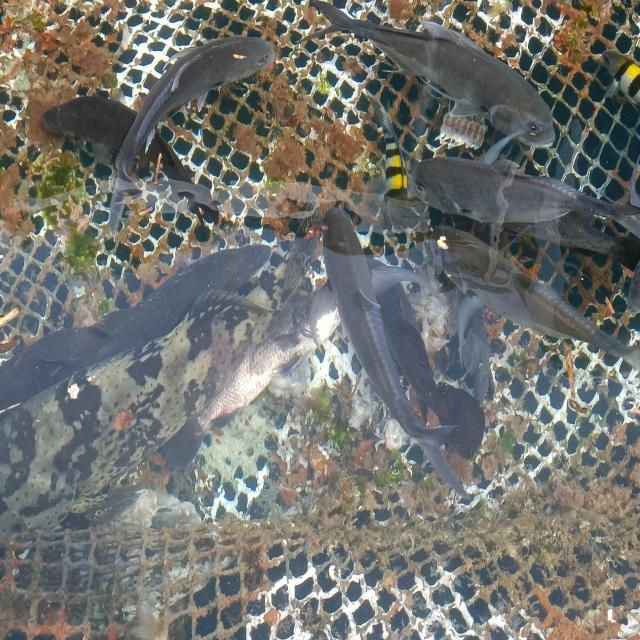ikan: (38, 33, 274, 235), (325, 208, 456, 488), (340, 0, 536, 170), (423, 238, 640, 378), (412, 155, 640, 246), (600, 49, 639, 115)
